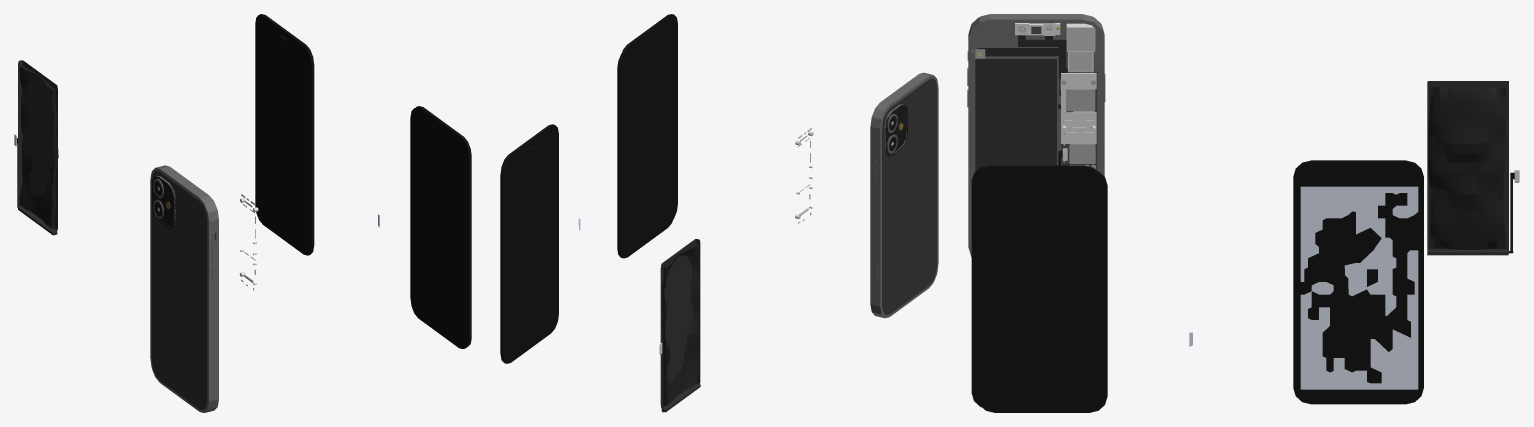
File: PHONEWITHSEPERATEDVABLES.fbx
3 renders of one model, left to right at view 1: azimuth 30°, elevation 25°; view 2: azimuth 150°, elevation 25°; view 3: azimuth 270°, elevation 25°, orthographic. The views are drawn at different scales.
Visible parts, largest first — view 1: screw 1, Screen, Defective_screen, Defect_Battery, Screen.001; view 2: screw 1, Defective_screen, Screen, Defect_Battery, Screen.001; view 3: Defective_screen, Screen.001, Defect_Battery, IN Battery, screw 1, Screen, metal plate MB, IN Motherboard, IN Mute Switch, IN Rear Cam 1, IN Front Camera ans Sensors.001, IN Rear Cam 2.
Boxes of the visible parts, left/top/right/bottom form: screw 1: left=150, top=165, right=218, bottom=412; Screen: left=412, top=106, right=471, bottom=347; Defective_screen: left=255, top=14, right=314, bottom=255; Defect_Battery: left=14, top=60, right=58, bottom=235; Screen.001: left=410, top=108, right=466, bottom=348; screw 1: left=870, top=72, right=938, bottom=318; Defective_screen: left=500, top=124, right=558, bottom=363; Screen: left=622, top=14, right=677, bottom=253; Defect_Battery: left=659, top=239, right=700, bottom=412; Screen.001: left=617, top=34, right=672, bottom=258; Defective_screen: left=1293, top=160, right=1423, bottom=404; Screen.001: left=977, top=170, right=1107, bottom=412; Defect_Battery: left=1427, top=81, right=1519, bottom=255; IN Battery: left=975, top=59, right=1056, bottom=171; screw 1: left=967, top=14, right=1105, bottom=257; Screen: left=971, top=165, right=1096, bottom=407; metal plate MB: left=1061, top=73, right=1096, bottom=143; IN Motherboard: left=1061, top=71, right=1097, bottom=170; IN Mute Switch: left=975, top=48, right=1058, bottom=58; IN Rear Cam 1: left=1067, top=27, right=1094, bottom=51; IN Front Camera ans Sensors.001: left=1018, top=35, right=1081, bottom=95; IN Rear Cam 2: left=1069, top=51, right=1092, bottom=71.
Bounding box in the file's own units: 851 × 658 × 1308.
